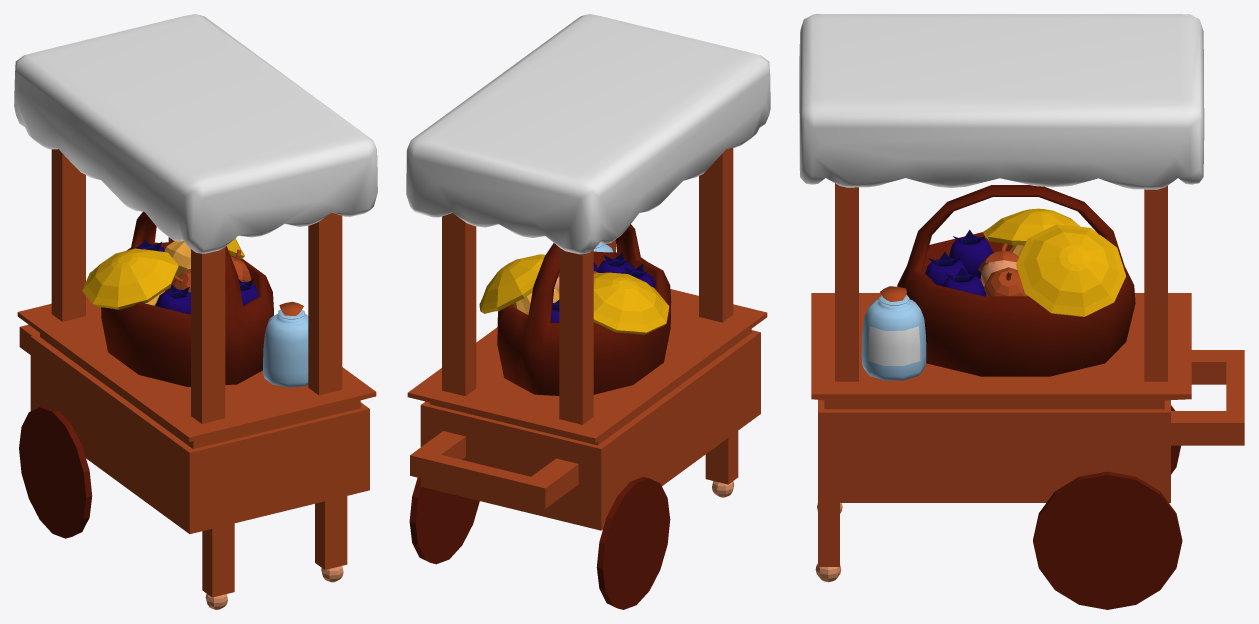
The model's file is MarketCart.fbx.
The picture shows the model from 3 angles, left to right: view 1: azimuth 30°, elevation 25°; view 2: azimuth 150°, elevation 25°; view 3: azimuth 270°, elevation 25°; orthographic projection. The views are drawn at different scales.
Visible parts, largest first — view 1: Cube.029, Cube.030, Cylinder.027, Cylinder.007, Cylinder.019, Cylinder.008, Cylinder.020, Cube.045, Sphere; view 2: Cube.029, Cube.030, Cylinder.027, Cylinder.007, Cylinder.019, Cylinder.020; view 3: Cube.030, Cube.029, Cylinder.027, Cylinder.007, Cylinder.020, Cylinder.008, Cylinder.019, Cube.045, Cylinder.026, Cube.046, Cylinder.025, Cube.044.
Boxes of the visible parts, <box> form: Cube.029: <box>17,149,376,597</box>; Cube.030: <box>14,14,377,253</box>; Cylinder.027: <box>101,211,273,387</box>; Cylinder.007: <box>19,405,92,538</box>; Cylinder.019: <box>82,248,178,309</box>; Cylinder.008: <box>263,301,308,387</box>; Cylinder.020: <box>164,238,244,276</box>; Cube.045: <box>155,285,190,313</box>; Sphere: <box>205,566,343,609</box>; Cube.029: <box>407,148,767,530</box>; Cube.030: <box>406,14,770,254</box>; Cylinder.027: <box>497,224,671,395</box>; Cylinder.007: <box>409,477,670,609</box>; Cylinder.019: <box>593,272,669,334</box>; Cylinder.020: <box>479,254,559,315</box>; Cube.030: <box>799,14,1204,189</box>; Cube.029: <box>811,183,1244,566</box>; Cylinder.027: <box>897,185,1135,376</box>; Cylinder.007: <box>1033,405,1182,609</box>; Cylinder.020: <box>1016,224,1125,316</box>; Cylinder.008: <box>861,286,926,380</box>; Cylinder.019: <box>983,208,1079,256</box>; Cube.045: <box>949,230,993,278</box>; Cylinder.026: <box>984,267,1027,296</box>; Cube.046: <box>925,251,968,286</box>; Cylinder.025: <box>978,244,1018,286</box>; Cube.044: <box>943,267,986,296</box>.
Size of the model in its own units: 197 by 437 by 354.
